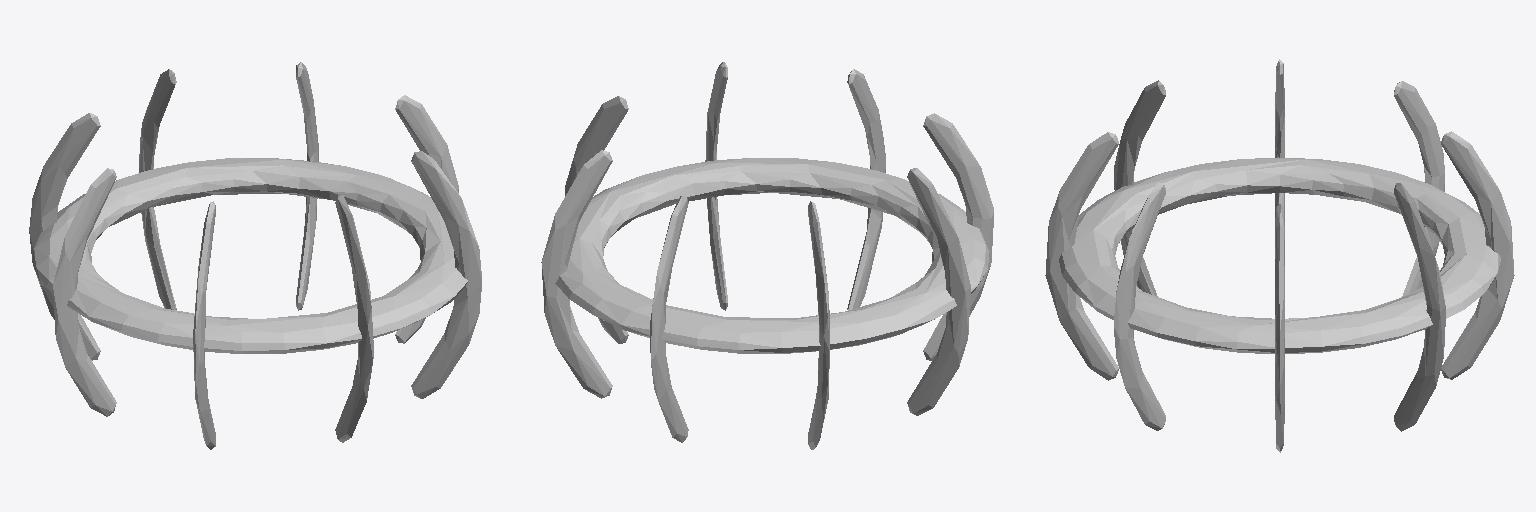
Rendered from warpstation-0.5.obj.
3 views of the same model, side by side, from view 1: azimuth 30°, elevation 25°; view 2: azimuth 150°, elevation 25°; view 3: azimuth 270°, elevation 25° (orthographic).
Visible parts, largest first — view 1: Circle.011; view 2: Circle.011; view 3: Circle.011.
Part boxes in pixels (x1,y1,x2,y2): Circle.011: (29,62,481,449); Circle.011: (541,62,993,449); Circle.011: (1045,59,1514,452).
Bounding box in the file's own units: 39.14 × 22.9 × 39.14.